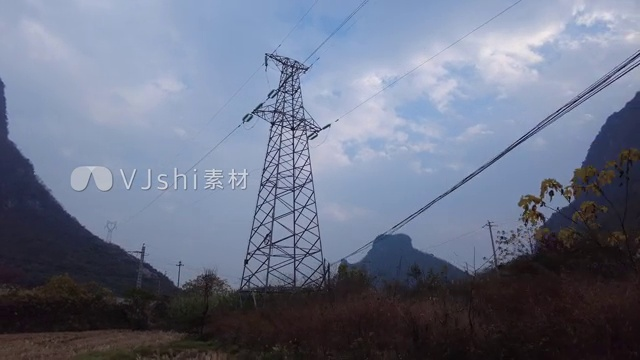tower_body: (231, 39, 344, 294)
tower_foot: (241, 225, 329, 289)
tower_head: (259, 46, 317, 77)
